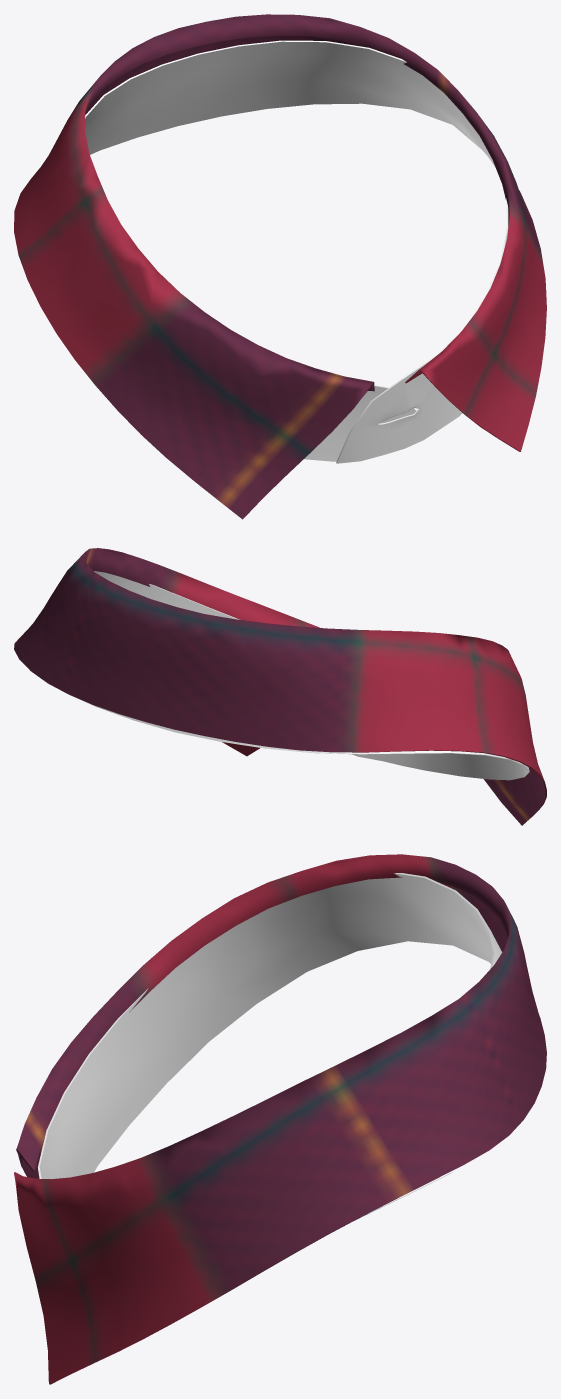
File: collar-club.glb
3 views of the same model, one above another, from view 1: azimuth 30°, elevation 25°; view 2: azimuth 150°, elevation 25°; view 3: azimuth 270°, elevation 25° (orthographic). The views are drawn at different scales.
Visible parts, largest first — view 1: Collar_Node, Collar_Stand_Node; view 2: Collar_Node, Collar_Stand_Node; view 3: Collar_Node, Collar_Stand_Node.
Part boxes in pixels (x1,y1,x2,y2): Collar_Node: (14, 14, 546, 519); Collar_Stand_Node: (85, 40, 508, 463); Collar_Node: (14, 548, 546, 825); Collar_Stand_Node: (79, 571, 529, 780); Collar_Node: (14, 854, 546, 1384); Collar_Stand_Node: (38, 873, 502, 1220).
Bounding box in the file's own units: 0.1669 × 0.1067 × 0.1345.
2 materials, 2 textured.
